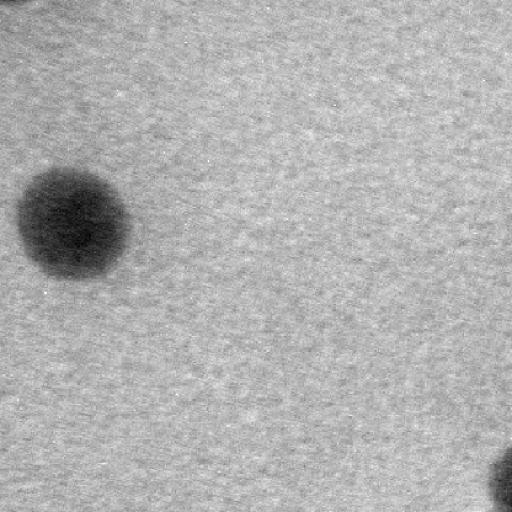Nanoparticles: (18, 161, 134, 286), (484, 436, 512, 512), (0, 0, 27, 9)
